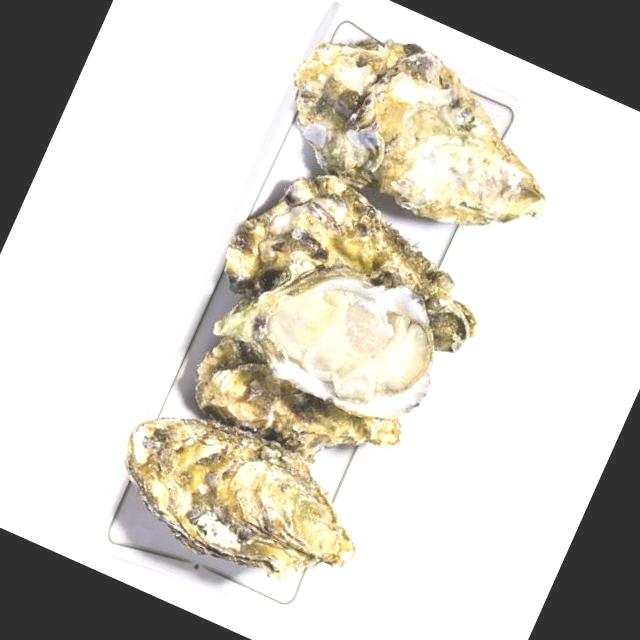Oyster-Closed: (281, 21, 571, 244), (206, 160, 502, 374), (114, 394, 367, 591), (176, 332, 414, 461)
Oyster-Open: (195, 248, 453, 423)
